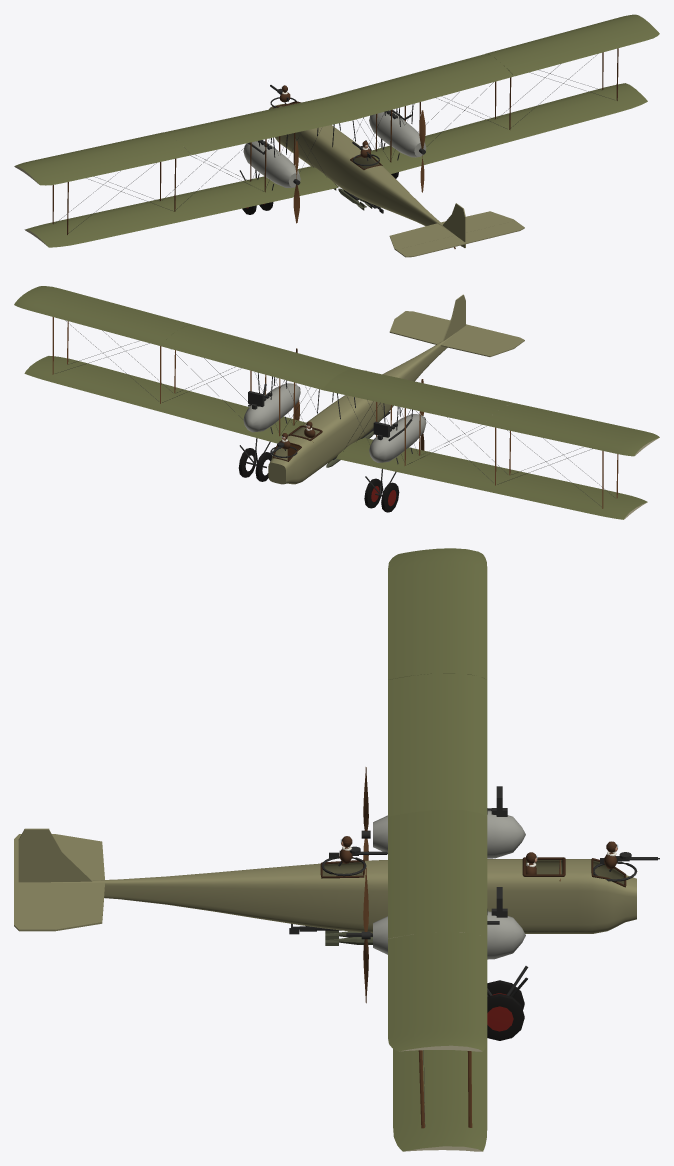
File: gotha_gv.glb
The picture shows the model from 3 angles, top to bottom: view 1: azimuth 30°, elevation 25°; view 2: azimuth 150°, elevation 25°; view 3: azimuth 270°, elevation 25°; orthographic projection. The views are drawn at different scales.
Visible parts, largest first — view 1: Wing_Upper_R, Wing_Upper_L, Wing_Lower_L, Wing_Lower_R, Fuselage, Aileron_R, Engine_L, Aileron_L, Engine_R, Elevator, Struts, Wires (+3 smaller); view 2: Wing_Upper_R, Wing_Upper_L, Wing_Lower_L, Wing_Lower_R, Fuselage, Engine_L, Engine_R, Wheels, Struts, Wires, Elevator, Stabilizer_L (+3 smaller); view 3: Wing_Upper_L, Fuselage, Wing_Upper_R, Wing_Lower_R, Aileron_L, Aileron_R, Stabilizer_R, Engine_R, Engine_L, Elevator, Wheels, Rudder (+2 smaller).
Boxes of the visible parts, x1,y1,x2,y2 form: Wing_Upper_R: [325, 14, 652, 119]; Wing_Upper_L: [14, 97, 352, 178]; Wing_Lower_L: [24, 166, 337, 247]; Wing_Lower_R: [371, 83, 647, 173]; Fuselage: [269, 104, 454, 234]; Aileron_R: [507, 27, 659, 76]; Engine_L: [243, 134, 300, 190]; Aileron_L: [33, 147, 190, 185]; Engine_R: [369, 104, 426, 160]; Elevator: [396, 221, 524, 257]; Struts: [52, 48, 618, 234]; Wires: [55, 54, 613, 233]; Wing_Upper_R: [14, 289, 352, 389]; Wing_Upper_L: [323, 368, 653, 456]; Wing_Lower_L: [336, 438, 647, 519]; Wing_Lower_R: [24, 356, 305, 443]; Fuselage: [268, 333, 455, 484]; Engine_L: [369, 403, 426, 464]; Engine_R: [243, 372, 300, 433]; Wheels: [238, 448, 399, 512]; Struts: [52, 317, 618, 508]; Wires: [55, 320, 614, 506]; Elevator: [397, 311, 524, 347]; Stabilizer_L: [441, 332, 515, 356]; Wing_Upper_L: [388, 548, 487, 816]; Fuselage: [51, 859, 636, 933]; Wing_Upper_R: [388, 810, 487, 1051]; Wing_Lower_R: [393, 1041, 487, 1151]; Aileron_L: [388, 550, 419, 679]; Aileron_R: [388, 934, 420, 1051]; Stabilizer_R: [49, 882, 104, 931]; Engine_R: [373, 887, 525, 959]; Engine_L: [373, 786, 525, 858]; Elevator: [14, 834, 49, 931]; Wheels: [487, 980, 524, 1040]; Rudder: [18, 828, 49, 882].
Size of the model in its own units: 23.7 by 4.15 by 13.
